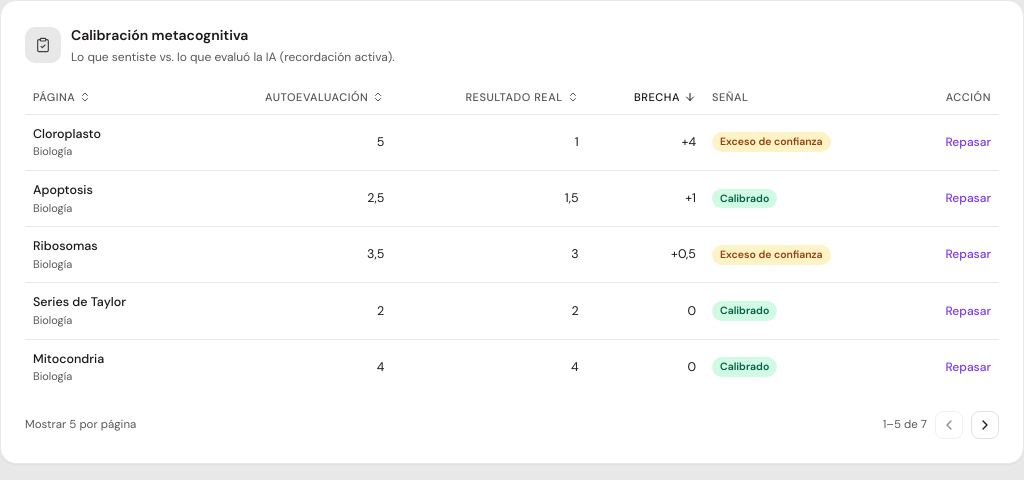
Test: CalibrationTable › returns to the first page when the sort changes
This screenshot has width=1024, height=480.
Click the button named "Página siguiente".
click(985, 425)  # box top-left (971, 411), bottom-right (999, 439)
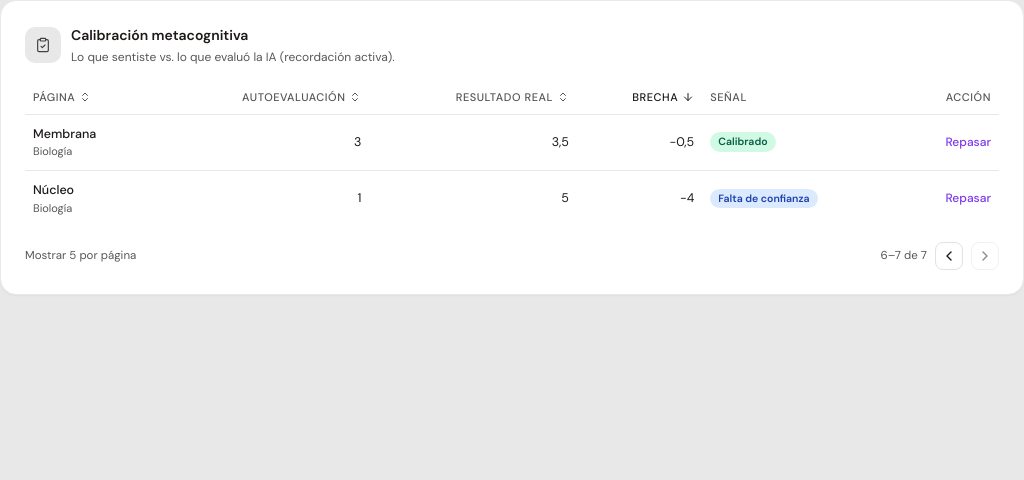
Click the button "Página".
click(62, 97)  # box top-left (33, 89), bottom-right (91, 106)
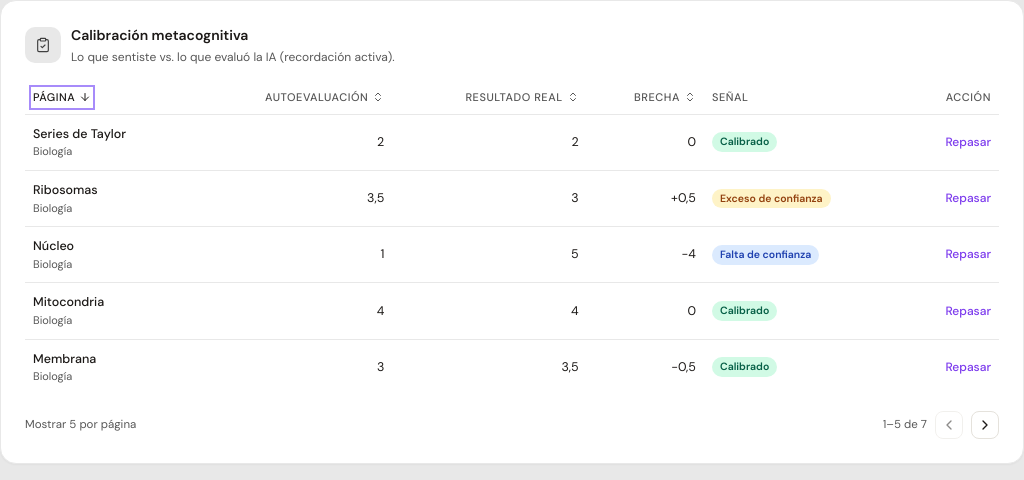
expect the text "1–5 de 7" is shown: met, box top-left (883, 416), bottom-right (927, 433)
